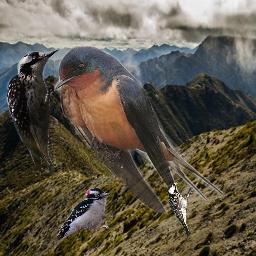Swallow: (54, 44, 223, 215)
Woodpecker: (2, 43, 63, 179), (54, 188, 111, 244), (167, 179, 194, 239)
